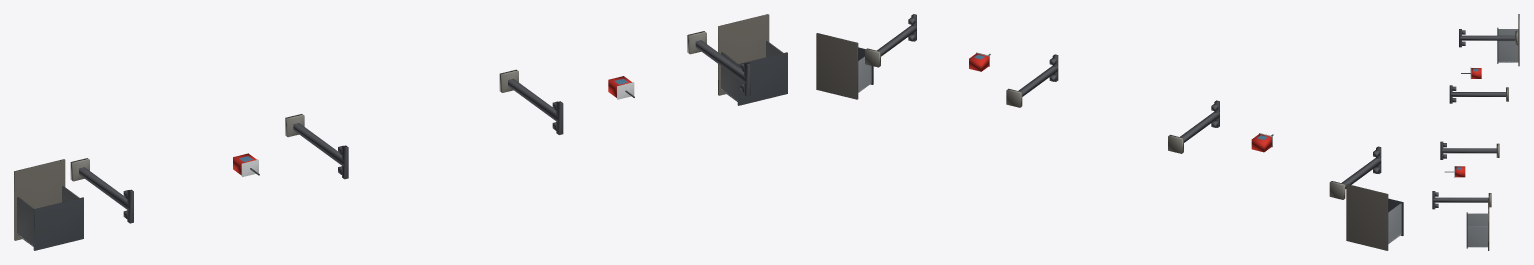
The model's file is structure.obj.
3 renders of one model, left to right at view 1: azimuth 30°, elevation 25°; view 2: azimuth 150°, elevation 25°; view 3: azimuth 270°, elevation 25°, orthographic. The views are drawn at different scales.
Visible parts, largest first — view 1: structure_platform, structure_sroof, structure_steel, structure_station, structure_concrete, structure_roof, structure_cabin; view 2: structure_platform, structure_steel, structure_concrete, structure_station, structure_cabin, structure_sroof; view 3: structure_steel, structure_station, structure_cabin, structure_concrete, structure_platform, structure_sroof.
Boxes of the visible parts, x1,y1,x2,y2 form: structure_platform: [14, 14, 769, 240]; structure_sroof: [33, 52, 787, 250]; structure_steel: [79, 40, 750, 223]; structure_station: [17, 41, 783, 246]; structure_concrete: [70, 31, 706, 181]; structure_roof: [241, 82, 634, 176]; structure_cabin: [233, 76, 631, 175]; structure_platform: [816, 33, 1388, 250]; structure_steel: [877, 14, 1381, 188]; structure_concrete: [865, 48, 1345, 199]; structure_station: [858, 56, 1401, 243]; structure_cabin: [969, 53, 1271, 152]; structure_sroof: [858, 47, 1403, 235]; structure_steel: [1432, 29, 1515, 209]; structure_station: [1467, 29, 1518, 247]; structure_cabin: [1455, 68, 1481, 177]; structure_concrete: [1488, 31, 1518, 207]; structure_platform: [1488, 14, 1519, 250]; structure_sroof: [1466, 27, 1498, 248].
Size of the model in its own units: 56.4 by 5.35 by 10.53.
